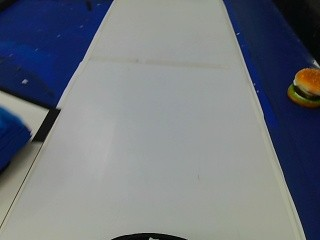burger: (286, 62, 318, 109)
